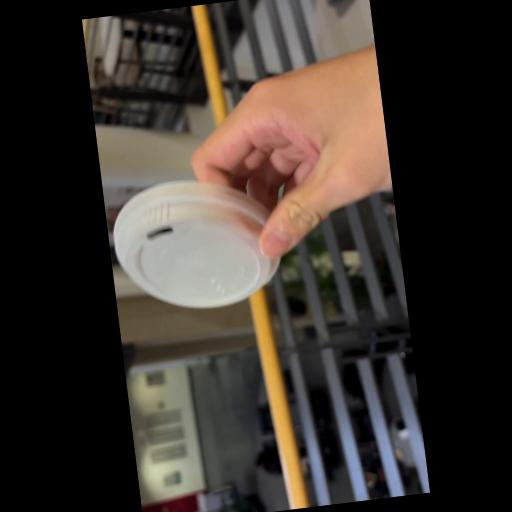lp_cup_lids: (105, 168, 291, 320)
